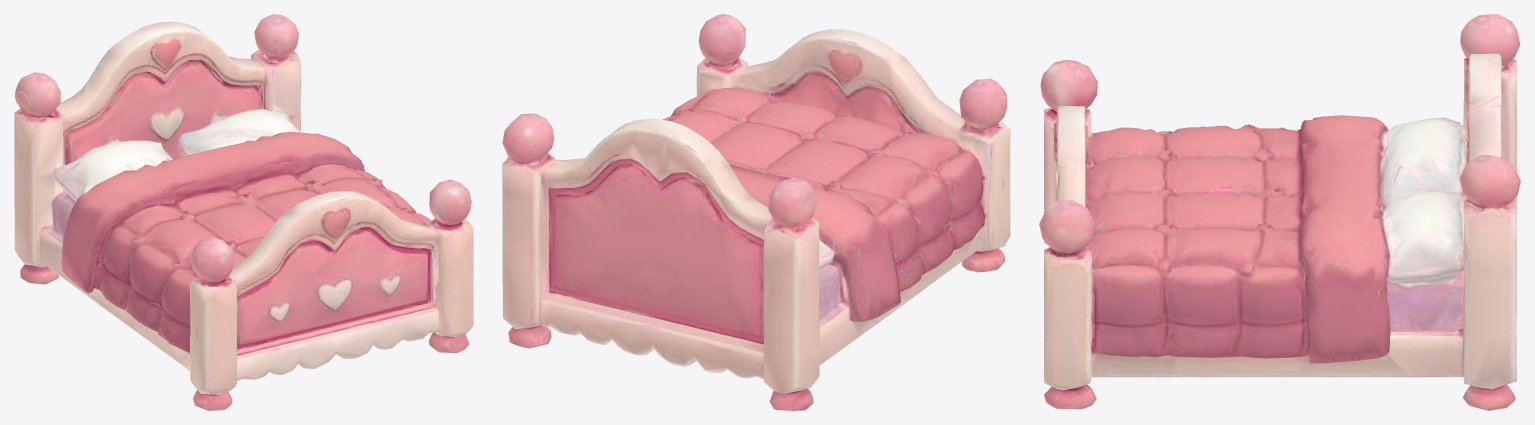
Rendered from Pink_bed.glb.
3 renders of one model, left to right at view 1: azimuth 30°, elevation 25°; view 2: azimuth 150°, elevation 25°; view 3: azimuth 270°, elevation 25°, orthographic. The views are drawn at different scales.
Parts seen in each view (by area): view 1: Mesh_0; view 2: Mesh_0; view 3: Mesh_0.
Part boxes in pixels (left/top/right/bottom): Mesh_0: left=14, top=14, right=473, bottom=410; Mesh_0: left=502, top=14, right=1010, bottom=410; Mesh_0: left=1039, top=14, right=1520, bottom=410.
Size of the model in its own units: 1.61 by 1.18 by 1.92.
1 material, 1 textured.
